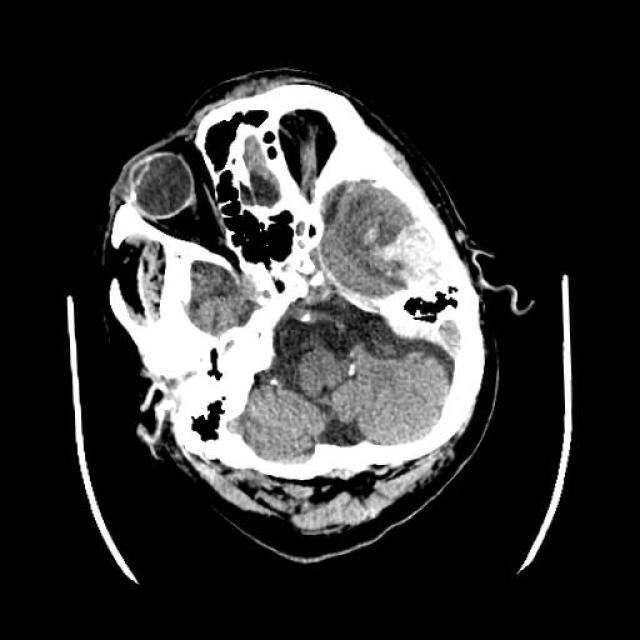Subdural: (376, 221, 470, 297)
